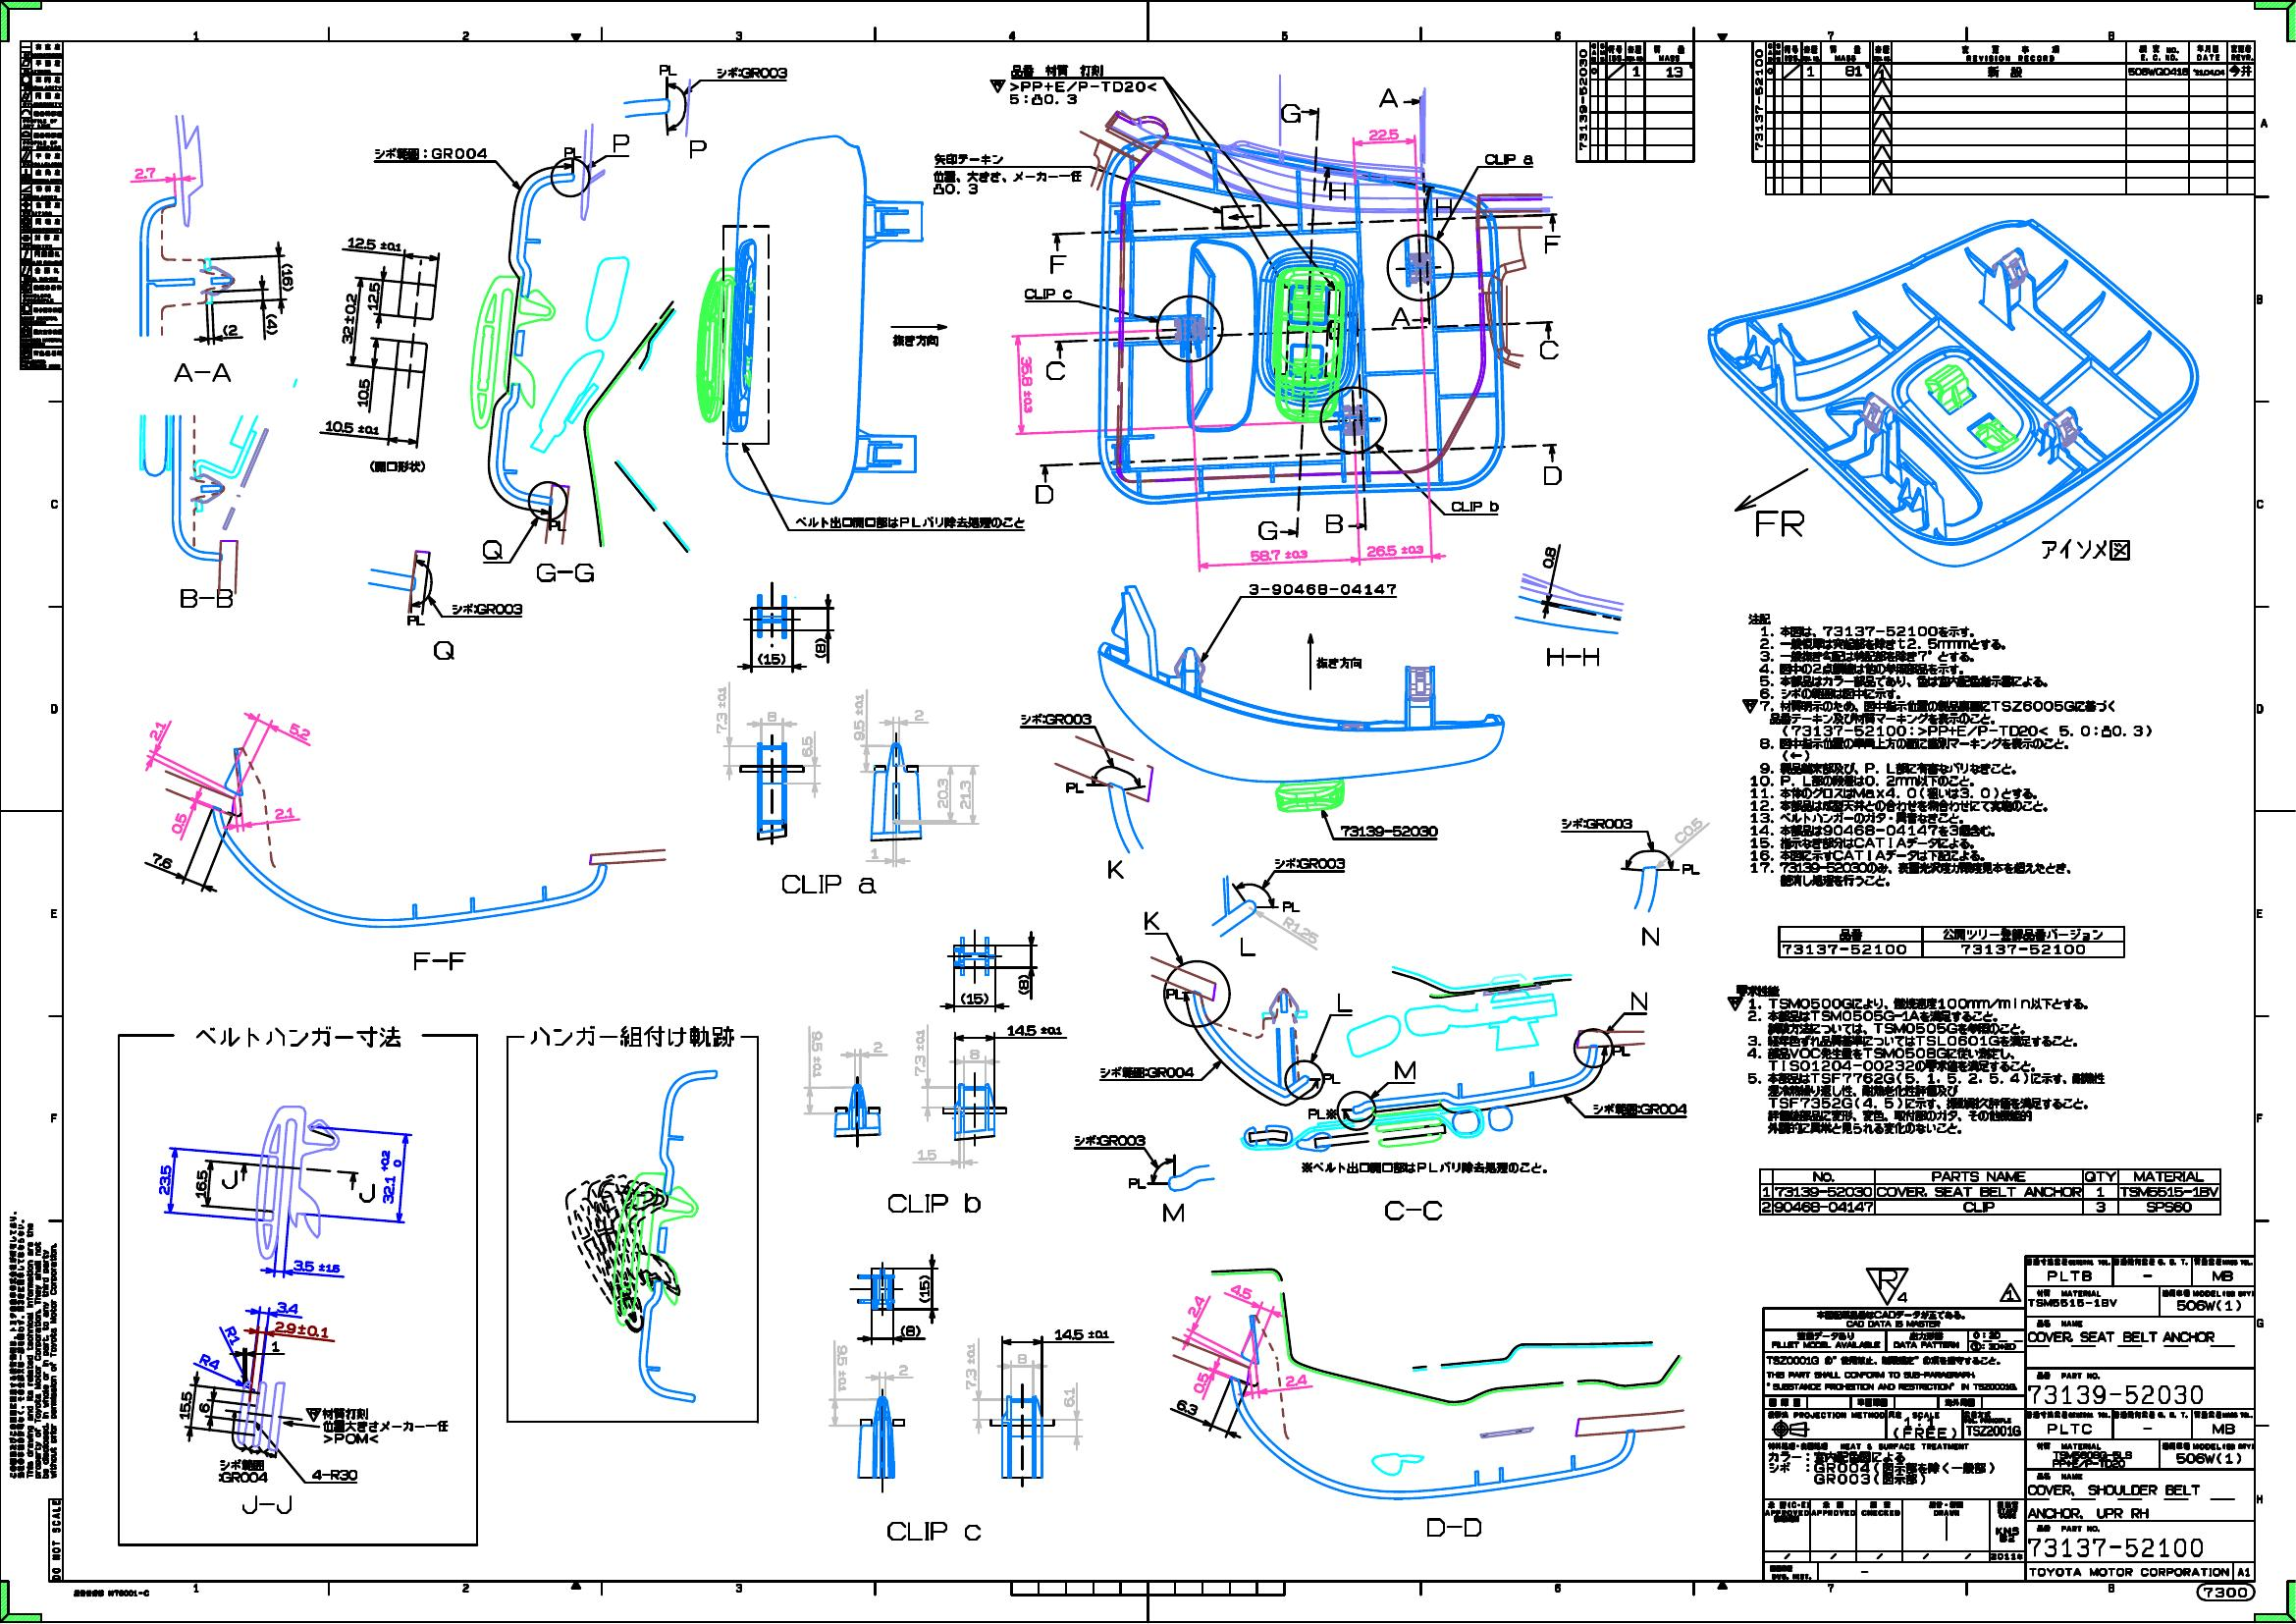anntotation_text: (1741, 612, 2152, 888), (1727, 982, 2105, 1135), (7, 1209, 60, 1482), (531, 1025, 734, 1049), (193, 1025, 404, 1048), (321, 1408, 448, 1445), (933, 153, 1084, 183), (1008, 63, 1158, 93), (1302, 1160, 1549, 1176), (796, 515, 1024, 529), (2040, 538, 2131, 562), (1247, 582, 1397, 596), (782, 874, 877, 895), (887, 1520, 980, 1541), (887, 1193, 982, 1213), (1755, 508, 1804, 538), (374, 148, 487, 160), (1383, 1199, 1442, 1222), (1592, 1102, 1688, 1116), (220, 1459, 269, 1483), (1340, 824, 1439, 837), (172, 362, 232, 381), (536, 562, 596, 582), (2196, 1582, 2256, 1601), (1425, 1517, 1483, 1536), (413, 951, 466, 972), (1546, 647, 1600, 666), (179, 589, 232, 608), (1100, 1067, 1195, 1077), (241, 1494, 292, 1513), (715, 67, 787, 79), (1073, 1134, 1145, 1146), (1275, 856, 1346, 868), (369, 459, 425, 473), (1021, 714, 1093, 724), (1560, 817, 1632, 828), (451, 605, 522, 615), (72, 1589, 149, 1598), (892, 332, 938, 346), (1484, 153, 1534, 165), (1451, 499, 1500, 511), (1316, 656, 1361, 668), (1024, 288, 1072, 299), (311, 1469, 357, 1480), (1163, 1202, 1184, 1223), (432, 640, 455, 659), (1393, 1060, 1416, 1079), (481, 540, 502, 559), (1035, 483, 1054, 504), (1542, 466, 1563, 485), (1641, 926, 1660, 947), (1390, 306, 1409, 325), (1379, 88, 1398, 107), (1281, 104, 1300, 123), (1045, 360, 1065, 380), (1258, 520, 1277, 540), (1539, 339, 1558, 359), (689, 139, 706, 160), (221, 1169, 239, 1190), (1107, 859, 1124, 881), (1435, 197, 1453, 216), (1328, 181, 1346, 200), (1049, 255, 1066, 274), (1325, 513, 1342, 533), (1630, 991, 1648, 1011), (1240, 937, 1256, 958), (613, 134, 629, 153), (1544, 236, 1560, 255), (358, 1183, 374, 1202), (1144, 910, 1159, 930), (1337, 993, 1353, 1012), (199, 1355, 221, 1367), (989, 77, 1007, 93), (1128, 1176, 1147, 1190), (1226, 211, 1254, 220), (1282, 900, 1300, 914), (659, 63, 678, 76), (227, 1325, 239, 1345), (1065, 782, 1084, 794), (1681, 863, 1700, 875), (1165, 988, 1182, 1000), (1323, 1072, 1340, 1084), (1307, 1107, 1325, 1120), (406, 615, 425, 626), (564, 146, 581, 156), (548, 520, 566, 531)
dimension_text: (379, 1149, 401, 1204), (1008, 93, 1079, 105), (1005, 1021, 1065, 1035), (292, 1258, 341, 1274), (274, 1322, 329, 1336), (1249, 548, 1309, 561), (1021, 355, 1033, 413), (346, 237, 402, 250), (1054, 1329, 1108, 1341), (325, 420, 379, 432), (343, 290, 355, 344), (1365, 545, 1425, 555), (715, 685, 727, 733), (964, 1343, 977, 1388), (933, 183, 978, 195), (836, 1343, 847, 1392), (812, 1028, 822, 1077), (915, 1028, 926, 1076), (854, 692, 864, 740), (1281, 924, 1321, 937), (156, 1162, 170, 1195), (1681, 814, 1693, 847), (936, 777, 949, 808), (179, 1390, 191, 1420), (195, 1169, 207, 1199), (357, 378, 369, 408), (1368, 128, 1398, 141), (367, 281, 379, 311), (149, 852, 174, 866), (959, 780, 971, 808), (288, 724, 311, 738), (1175, 1399, 1198, 1413), (1189, 1294, 1202, 1318), (276, 1301, 299, 1313), (172, 812, 184, 835), (801, 735, 813, 758), (1230, 1285, 1253, 1297), (1284, 1374, 1307, 1387), (1195, 1371, 1207, 1394), (135, 165, 155, 179), (915, 1148, 936, 1160), (1542, 547, 1555, 568), (274, 807, 295, 819), (151, 719, 163, 740), (1063, 1387, 1075, 1406), (281, 269, 293, 286), (762, 652, 780, 664), (919, 1280, 929, 1297), (966, 993, 984, 1004), (197, 1401, 211, 1413), (898, 1364, 908, 1376), (1017, 979, 1029, 990), (265, 318, 278, 329), (228, 323, 239, 336), (766, 710, 776, 722), (913, 708, 924, 721), (905, 1325, 915, 1336), (271, 1339, 279, 1352), (873, 1040, 882, 1053), (870, 847, 878, 859), (1017, 1353, 1026, 1364), (970, 1049, 980, 1058), (815, 643, 826, 652)
object: (1079, 109, 1551, 506), (1706, 216, 2199, 566), (1172, 1265, 1685, 1501), (1149, 956, 1648, 1153), (469, 123, 690, 554), (1096, 582, 1505, 814), (146, 747, 666, 928), (696, 132, 924, 504), (564, 1069, 717, 1404), (137, 413, 269, 596), (139, 114, 235, 337), (255, 1104, 339, 1260), (1054, 735, 1154, 854), (989, 1334, 1056, 1478), (738, 733, 805, 844), (393, 248, 430, 448), (1514, 571, 1625, 634), (870, 731, 922, 842), (235, 1346, 286, 1452), (856, 1387, 905, 1492), (942, 1070, 1007, 1146), (367, 548, 430, 615), (622, 76, 690, 137), (1620, 849, 1679, 912), (741, 580, 801, 640), (833, 1076, 882, 1148), (947, 928, 1003, 984), (848, 1260, 903, 1316), (1210, 874, 1256, 939), (1147, 1153, 1216, 1192)
title_block: (1760, 1253, 2256, 1582), (1751, 40, 2254, 195), (1758, 1167, 2222, 1214), (1576, 39, 1695, 162), (19, 39, 63, 371), (1776, 924, 2126, 958)
